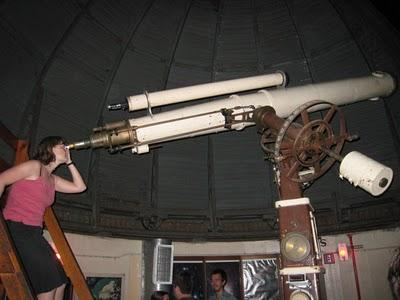person: (3, 139, 85, 298)
